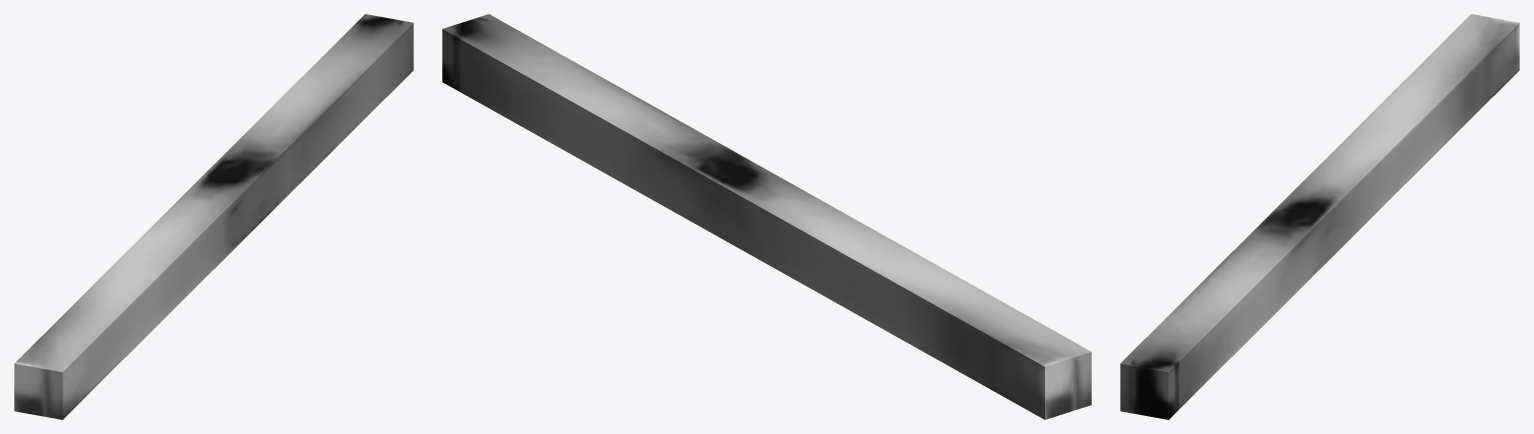
File: frame__rear_diagonal.glb
3 renders of one model, left to right at view 1: azimuth 90°, elevation 25°; view 2: azimuth 150°, elevation 25°; view 3: azimuth 270°, elevation 25°, orthographic. The views are drawn at different scales.
Visible parts, largest first — view 1: world; view 2: world; view 3: world.
Boxes of the visible parts, box(x1,y1,x2,y2) form: world: box(14, 14, 413, 419); world: box(442, 14, 1091, 419); world: box(1120, 14, 1519, 419).
Bounding box in the file's own units: 0.6764 × 0.042 × 0.3187.
1 material, 1 textured.
